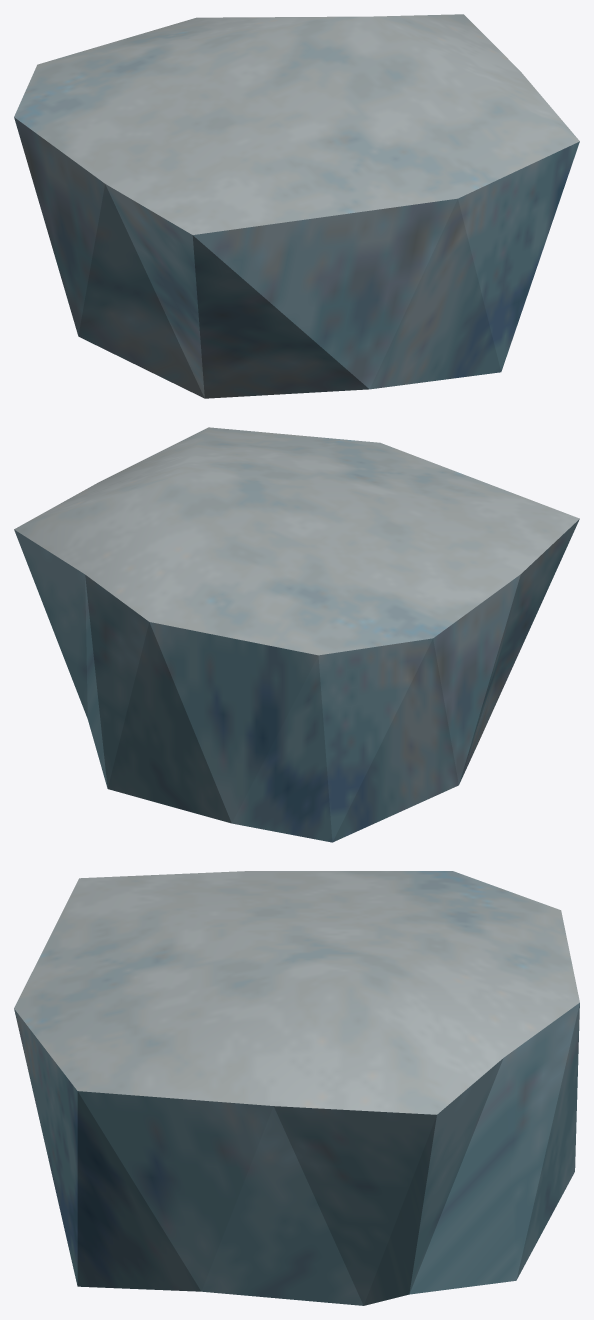
The picture shows the model from 3 angles, top to bottom: view 1: azimuth 30°, elevation 25°; view 2: azimuth 150°, elevation 25°; view 3: azimuth 270°, elevation 25°; orthographic projection. The views are drawn at different scales.
Visible parts, largest first — view 1: a11; view 2: a11; view 3: a11.
Part boxes in pixels (x1=…): a11: x1=14, y1=14, x2=579, y2=398; a11: x1=14, y1=427, x2=579, y2=842; a11: x1=14, y1=871, x2=579, y2=1305.
Size of the model in its own units: 266 by 156 by 261.
